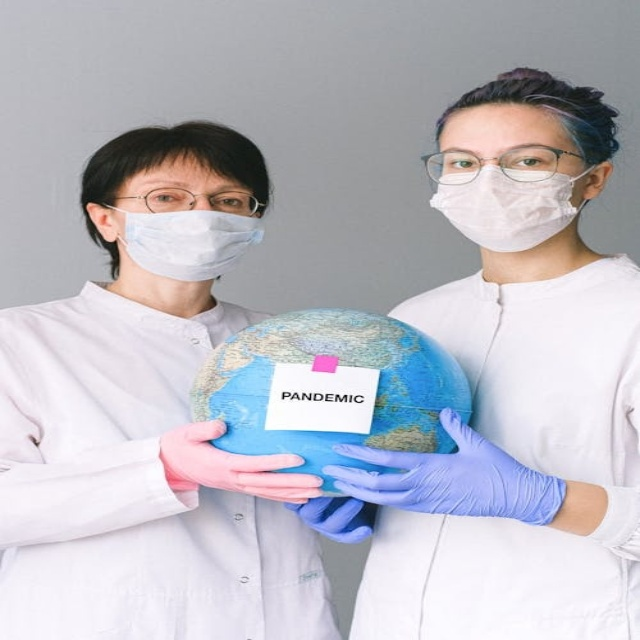Gafas: (420, 147, 594, 187), (101, 188, 267, 217)
Guantes: (323, 408, 563, 526), (158, 419, 318, 501), (286, 494, 375, 544)
Mascara: (429, 160, 594, 251), (107, 206, 265, 281)
